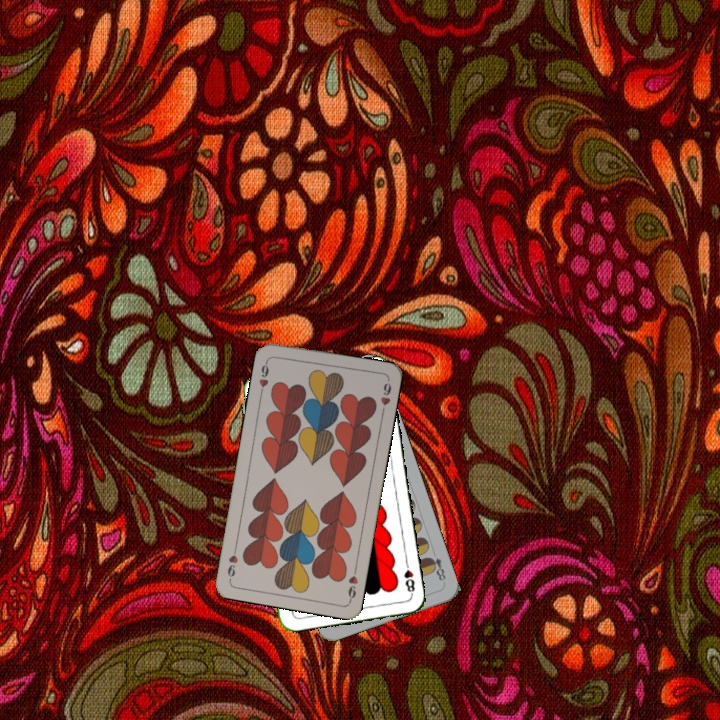E8: (424, 546, 448, 583)
H8: (400, 558, 417, 598)
H9: (344, 563, 360, 603), (255, 356, 271, 396)
